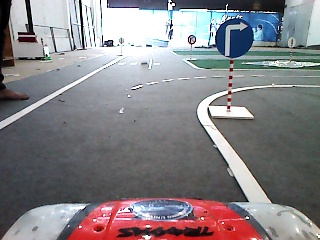turn: (212, 16, 256, 60)
